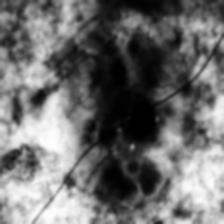Potentially Malignant Skin Tumors: (108, 73, 168, 163)
